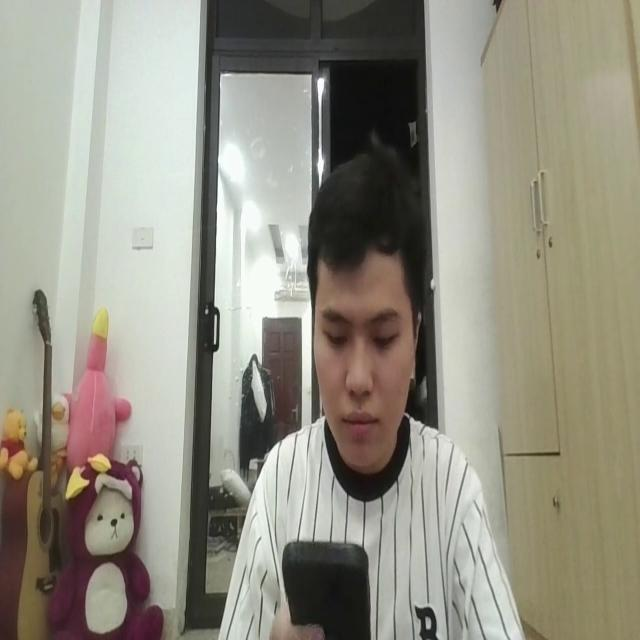phone: (284, 528, 375, 640)
student: (222, 130, 528, 640)
